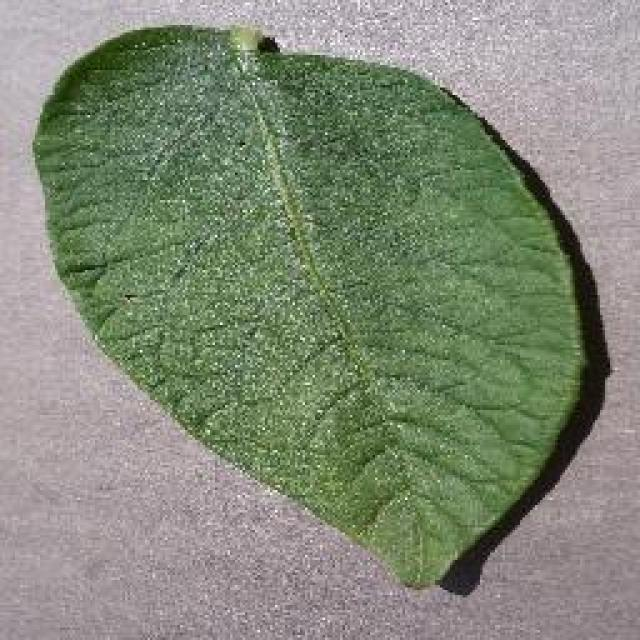Potato___healthy: (28, 20, 583, 592)
